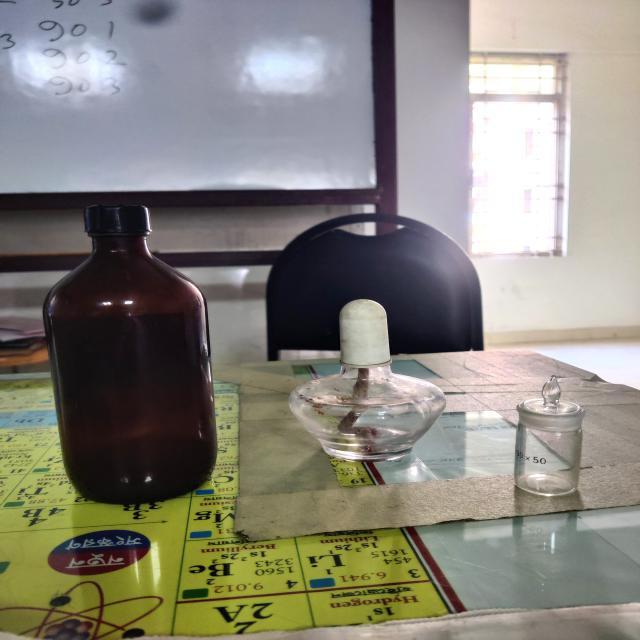Nessler_Reagent_Bottle: (22, 183, 244, 532)
Spirit_Lamp: (269, 277, 463, 491)
Weighing_Bottle: (491, 360, 616, 517)
